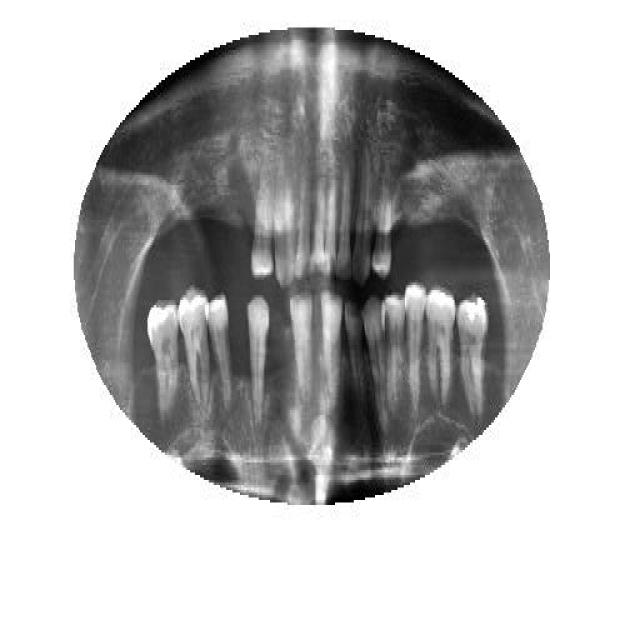Fillings: (456, 292, 490, 422)
